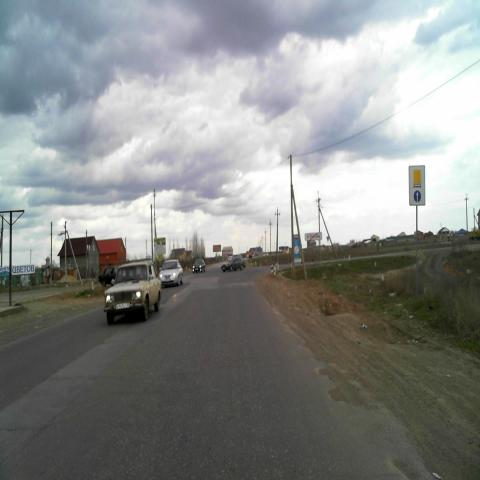4_8_2: (409, 165, 426, 207)
